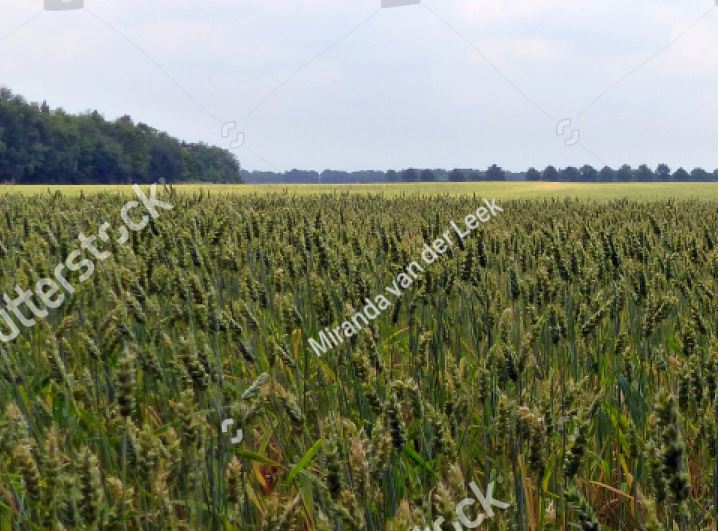Wheat: (136, 274, 685, 456)
